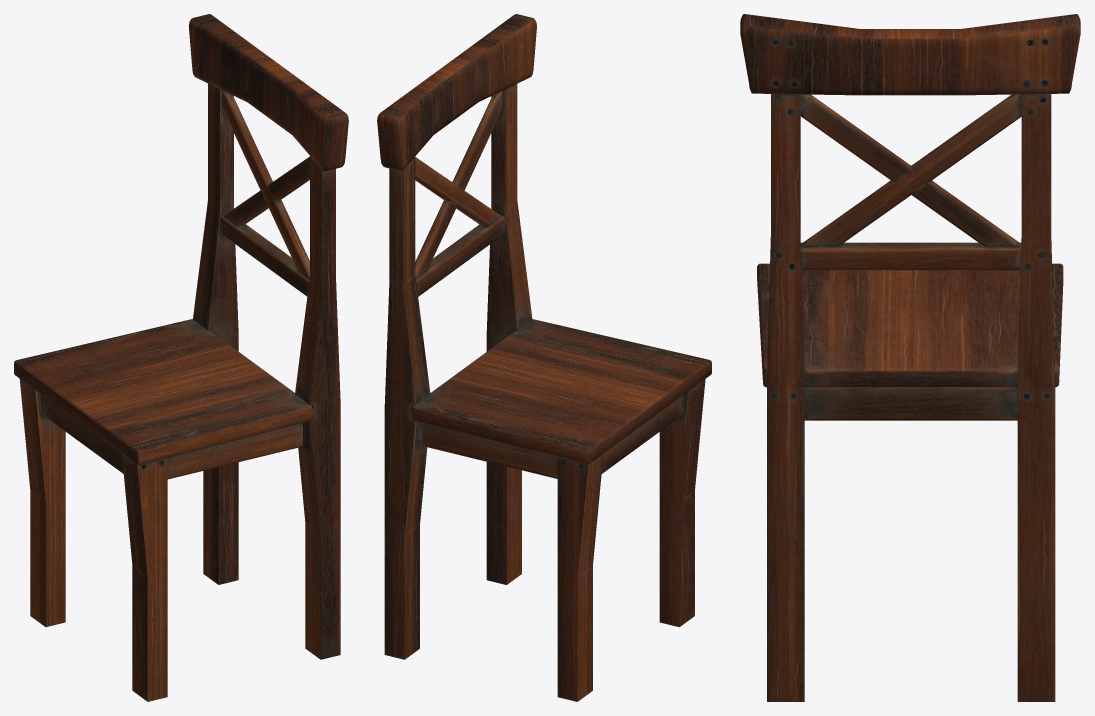
File: chair3.glb
3 renders of one model, left to right at view 1: azimuth 30°, elevation 25°; view 2: azimuth 150°, elevation 25°; view 3: azimuth 270°, elevation 25°, orthographic. The views are drawn at different scales.
Parts seen in each view (by area): view 1: Object_2; view 2: Object_2; view 3: Object_2.
Boxes of the visible parts, left/top/right/bottom form: Object_2: left=14, top=14, right=348, bottom=701; Object_2: left=377, top=14, right=711, bottom=701; Object_2: left=740, top=14, right=1080, bottom=701.
Size of the model in its own units: 0.4194 by 1.03 by 0.4729.
Materials: 1 (1 with a texture image).
